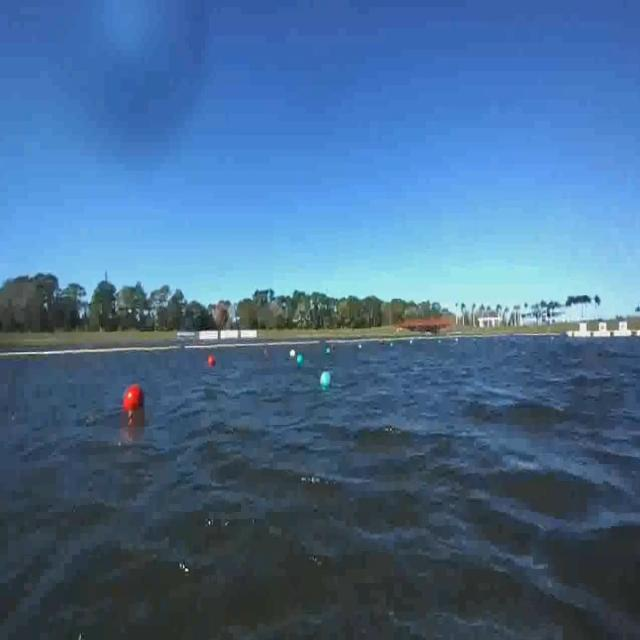green-buoy: (321, 371, 332, 389), (296, 354, 303, 366)
red-buoy: (125, 380, 145, 410), (209, 355, 216, 367)
